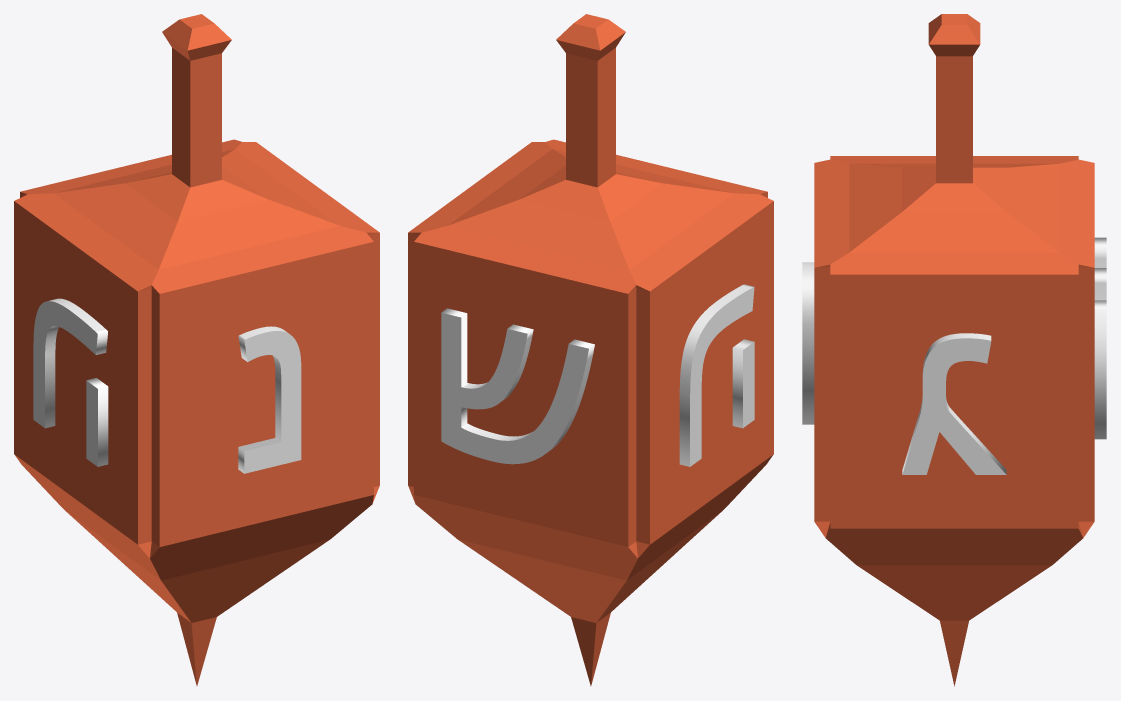
The model's file is Dreidel_Plastic.glb.
3 renders of one model, left to right at view 1: azimuth 30°, elevation 25°; view 2: azimuth 150°, elevation 25°; view 3: azimuth 270°, elevation 25°, orthographic.
Visible parts, largest first — view 1: Dreidel_Plastic, Dreidel_Plastic_Letter_ה, Dreidel_Plastic_Letter_נ; view 2: Dreidel_Plastic, Dreidel_Plastic_Letter_ש, Dreidel_Plastic_Letter_ה; view 3: Dreidel_Plastic, Dreidel_Plastic_Letter_ג, Dreidel_Plastic_Letter_ש, Dreidel_Plastic_Letter_נ.
Part boxes in pixels (box(x1,y1,x2,y2)): Dreidel_Plastic: box(14, 14, 379, 685); Dreidel_Plastic_Letter_ה: box(33, 298, 108, 466); Dreidel_Plastic_Letter_נ: box(238, 326, 301, 473); Dreidel_Plastic: box(408, 14, 773, 685); Dreidel_Plastic_Letter_ש: box(441, 308, 594, 464); Dreidel_Plastic_Letter_ה: box(679, 284, 754, 466); Dreidel_Plastic: box(814, 14, 1094, 686); Dreidel_Plastic_Letter_ג: box(902, 333, 1006, 474); Dreidel_Plastic_Letter_ש: box(1094, 237, 1106, 439); Dreidel_Plastic_Letter_נ: box(802, 262, 814, 424).
Bounding box in the file's own units: 2.28 × 5.52 × 2.28.
